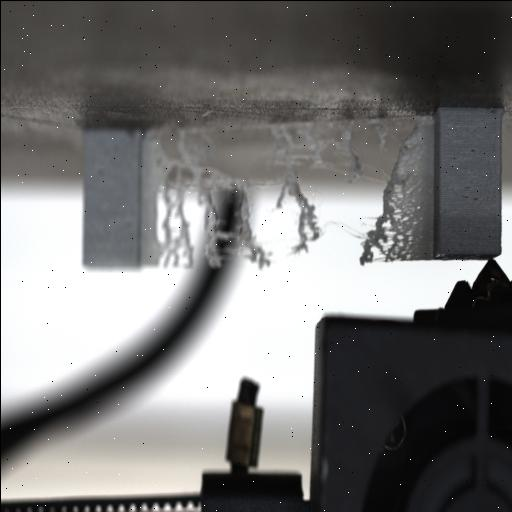stringing: (152, 125, 294, 270), (356, 117, 430, 265), (155, 166, 195, 268)
